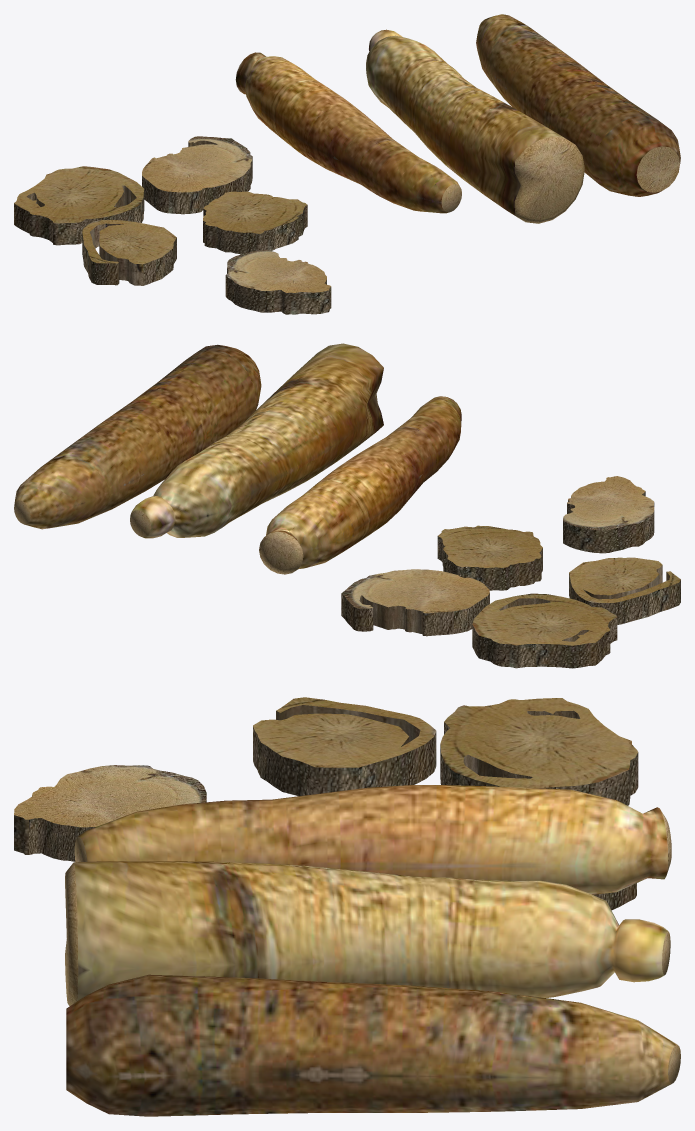
File: kushen.FBX
The picture shows the model from 3 angles, top to bottom: view 1: azimuth 30°, elevation 25°; view 2: azimuth 150°, elevation 25°; view 3: azimuth 270°, elevation 25°; orthographic projection. The views are drawn at different scales.
Parts seen in each view (by area): view 1: Cylinder001, Cylinder003, Cylinder002, Line002, Line003, Line004, Line005, Line006; view 2: Cylinder001, Cylinder003, Cylinder002, Line002, Line003, Line004, Line005, Line006; view 3: Cylinder003, Cylinder001, Cylinder002, Line002, Line006, Line004.
Part boxes in pixels (x1,y1,x2,y2): Cylinder001: (366, 29, 584, 223); Cylinder003: (476, 14, 680, 196); Cylinder002: (235, 52, 461, 213); Line002: (14, 166, 144, 245); Line003: (142, 136, 252, 214); Line004: (225, 250, 331, 314); Line005: (203, 191, 307, 254); Line006: (82, 219, 176, 285); Cylinder001: (130, 343, 383, 538); Cylinder003: (14, 344, 261, 529); Cylinder002: (259, 396, 461, 574); Line002: (472, 593, 617, 668); Line003: (341, 569, 489, 636); Line004: (563, 476, 654, 553); Line005: (437, 525, 542, 590); Line006: (569, 557, 680, 624); Cylinder003: (66, 974, 680, 1116); Cylinder001: (65, 861, 670, 1005); Cylinder002: (74, 785, 671, 894); Line002: (440, 698, 638, 805); Line006: (253, 697, 436, 796); Line004: (14, 765, 206, 861).
Size of the model in its own units: 73.99 by 13.69 by 49.45.
